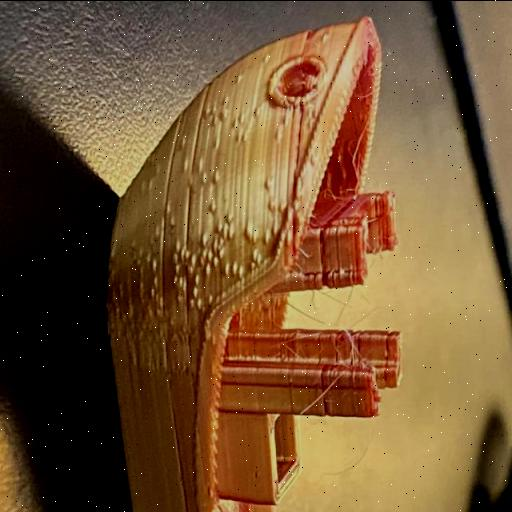blobs: (244, 225, 258, 246), (248, 249, 266, 263), (270, 218, 281, 236), (282, 230, 296, 244), (206, 198, 220, 212), (198, 168, 212, 181), (214, 217, 224, 235), (206, 102, 218, 117), (197, 230, 208, 246), (262, 176, 274, 190), (211, 168, 221, 184), (194, 294, 206, 307), (168, 252, 181, 264), (203, 262, 214, 276), (226, 225, 236, 239), (230, 261, 240, 275), (210, 254, 220, 268), (253, 104, 263, 118), (206, 290, 216, 304), (282, 112, 292, 126), (200, 104, 210, 118), (188, 282, 198, 295), (174, 238, 183, 252), (148, 286, 157, 300), (262, 230, 272, 242), (266, 200, 278, 210), (224, 210, 234, 222), (230, 118, 240, 130), (219, 106, 229, 118), (188, 296, 198, 308), (148, 256, 158, 268), (238, 110, 246, 124), (222, 262, 232, 273), (216, 247, 227, 257), (238, 262, 244, 280), (156, 296, 166, 306), (171, 272, 178, 286), (192, 272, 200, 284), (222, 92, 230, 104), (174, 260, 180, 274), (277, 202, 285, 212), (234, 133, 244, 141), (242, 132, 250, 142), (214, 138, 222, 148), (235, 72, 243, 82), (190, 252, 196, 264), (178, 274, 184, 286), (184, 248, 190, 258), (153, 274, 158, 286)
stringing: (344, 322, 360, 370), (348, 144, 362, 180)
